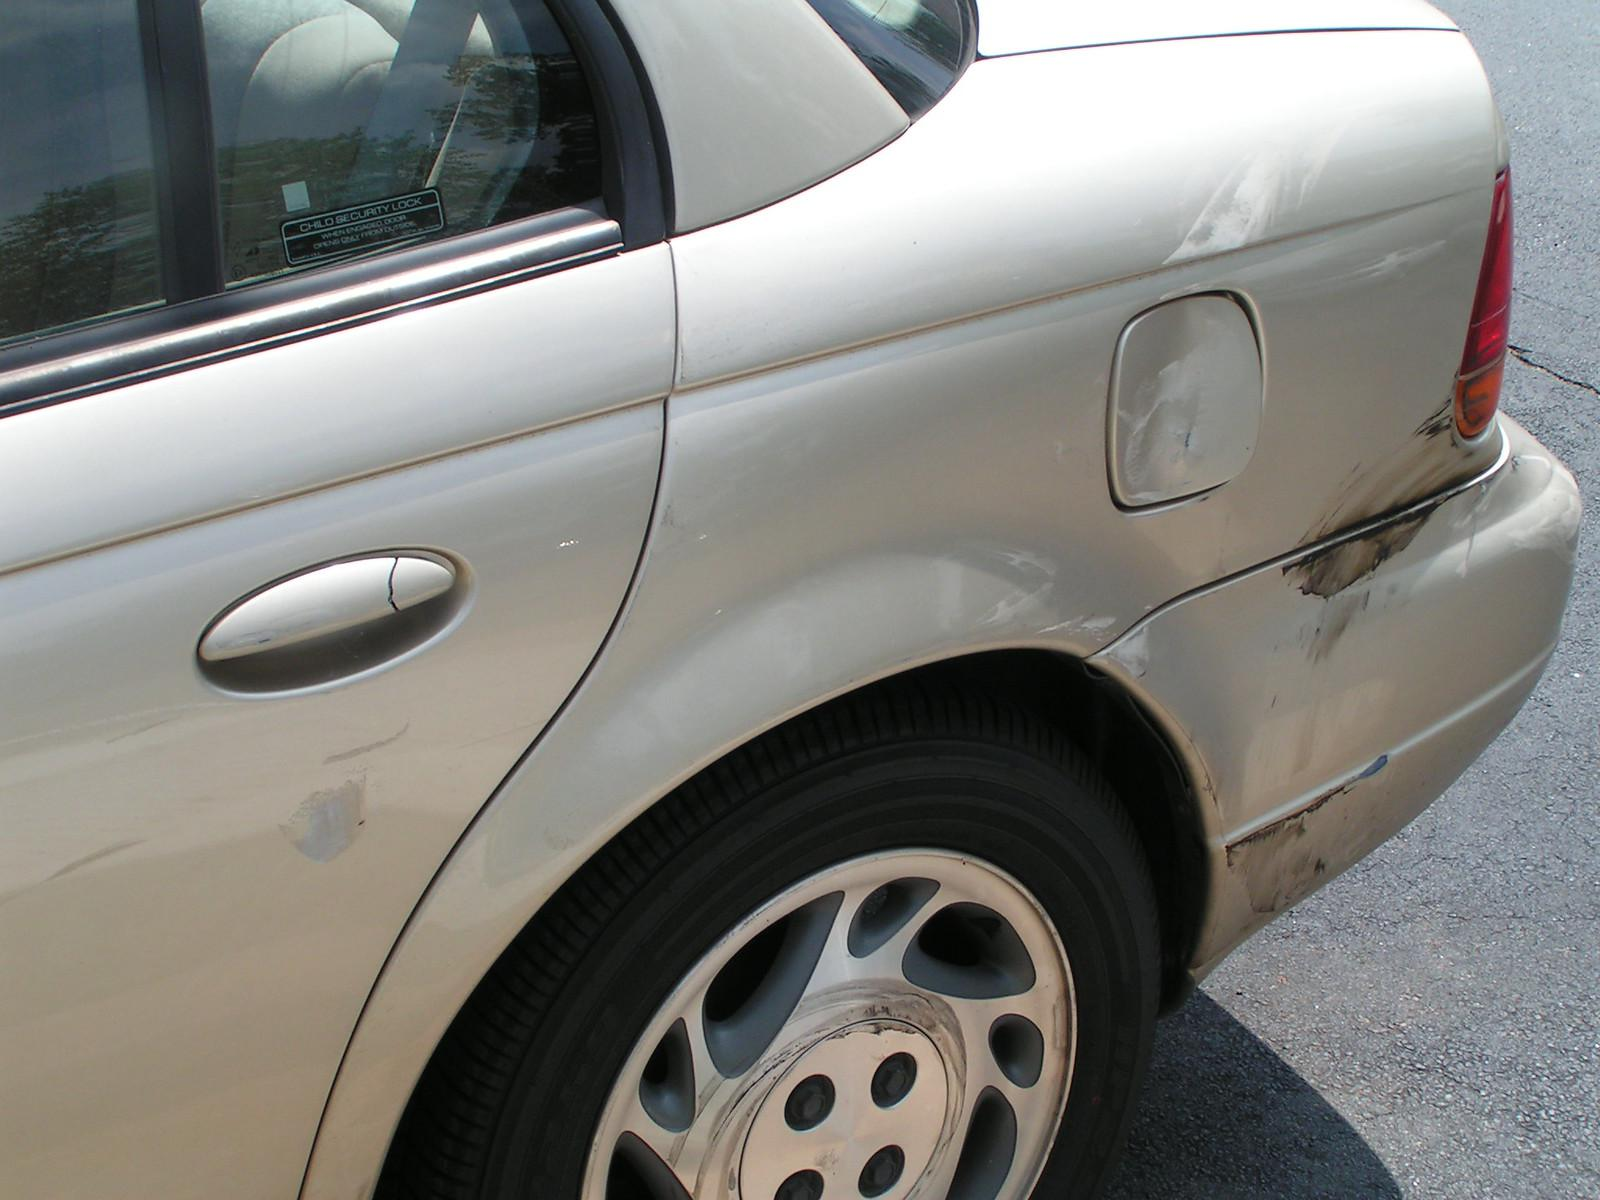quaterpanel-dent: (671, 200, 1516, 850)
